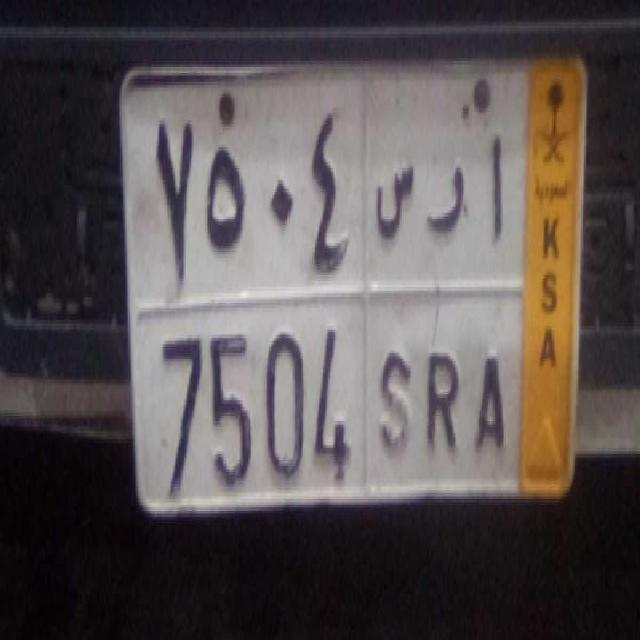license_plate: (156, 296, 521, 505)
